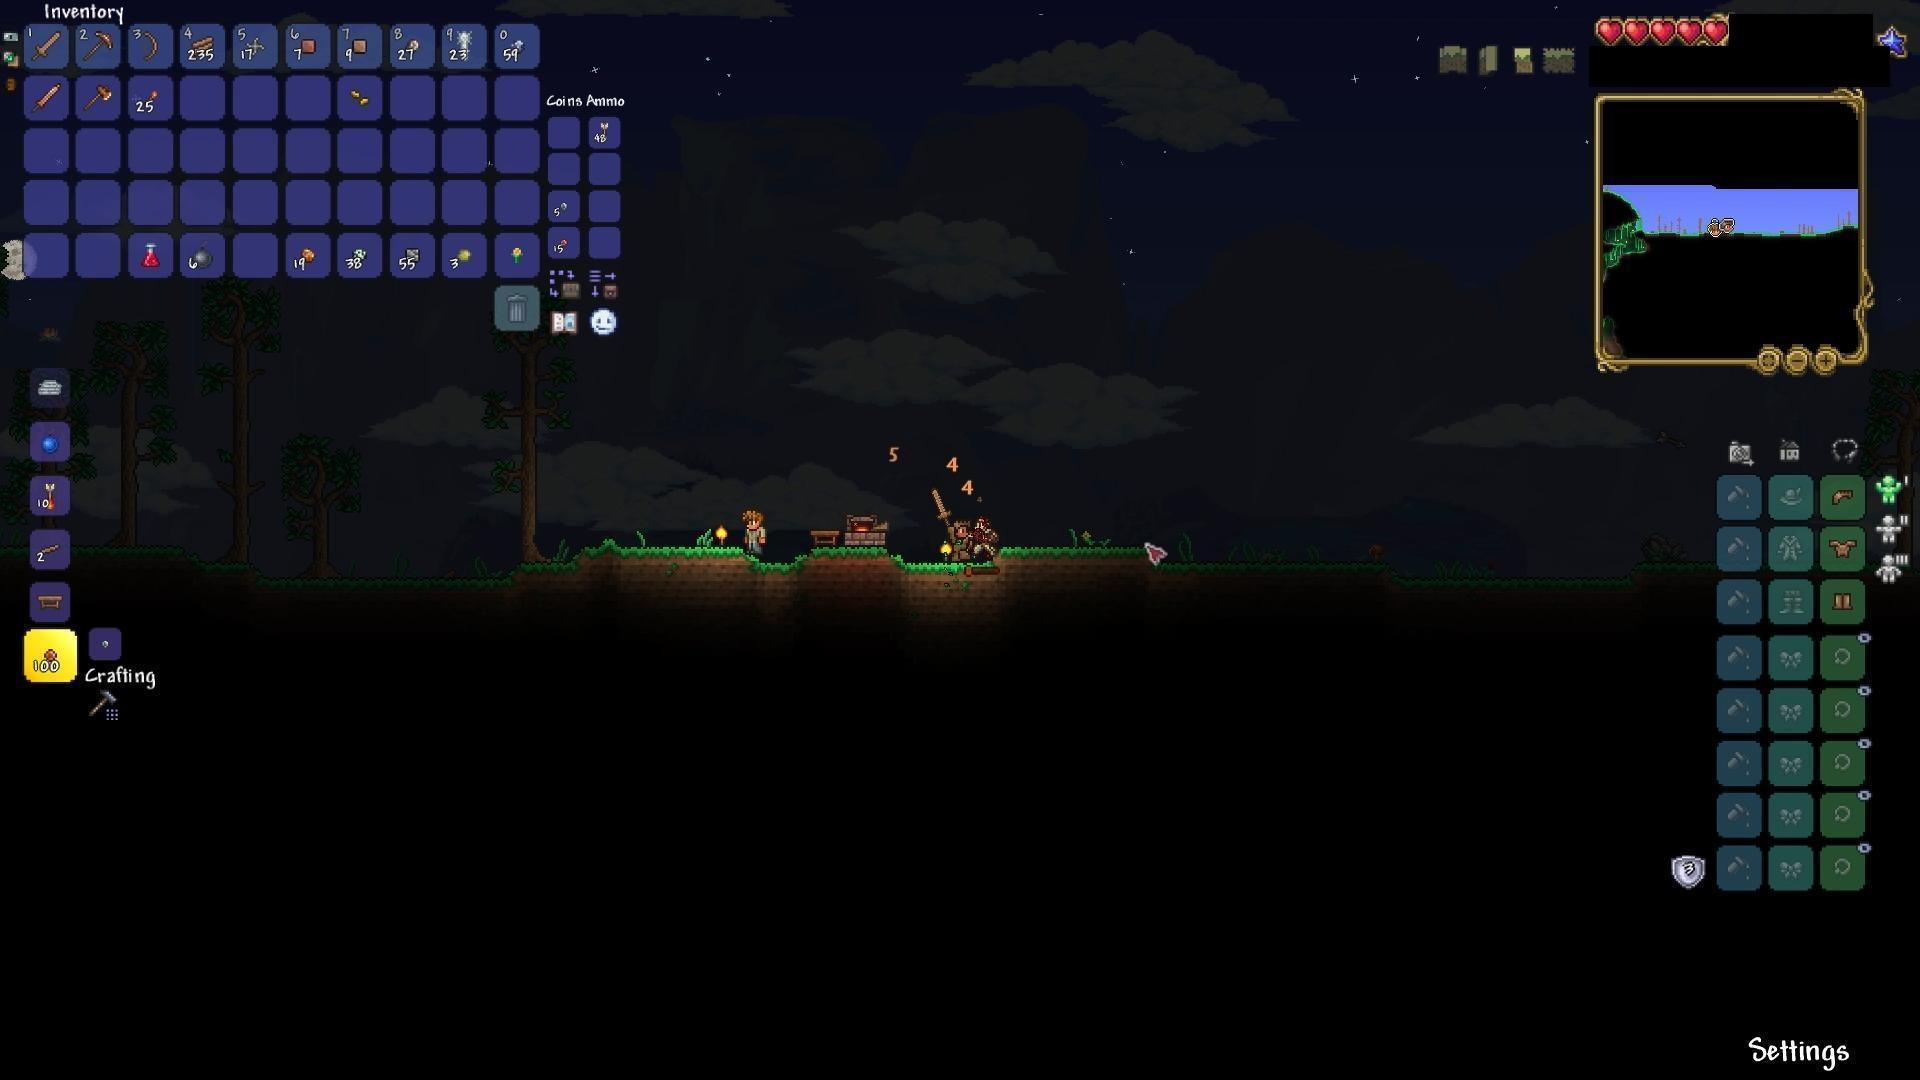dirt: (512, 527, 757, 605), (1004, 538, 1332, 582), (757, 551, 1015, 583)
heart: (1702, 17, 1733, 51), (1593, 16, 1626, 46), (1676, 15, 1704, 50), (1650, 16, 1676, 49), (1625, 15, 1651, 44)
